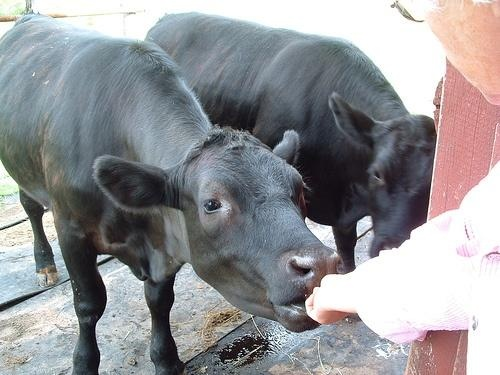cow: (1, 12, 348, 373), (145, 13, 437, 274)
